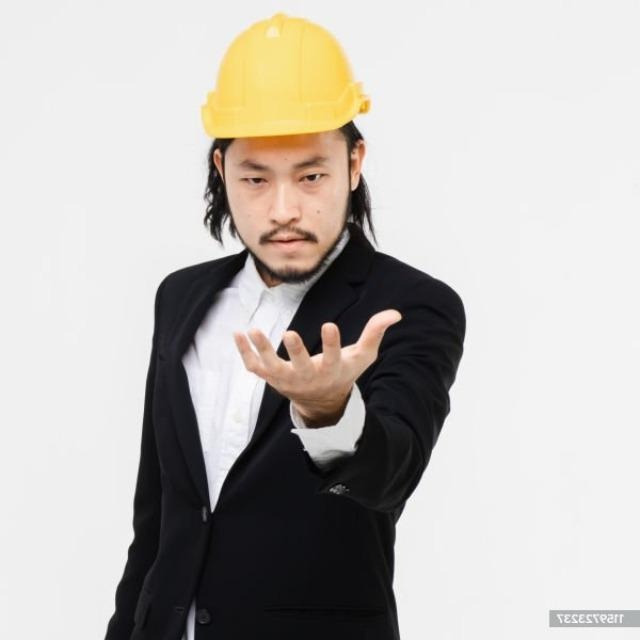Con_Casco: (200, 14, 372, 286)
Sin_Chaleco: (147, 252, 455, 634)
